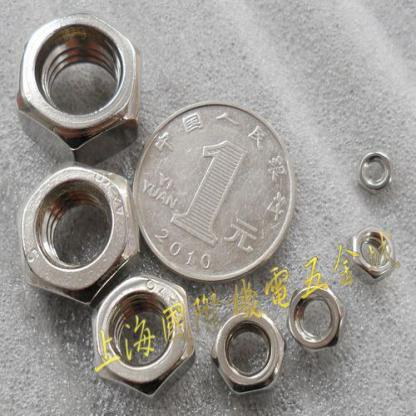FOD: (16, 12, 143, 165), (15, 163, 140, 311), (88, 270, 197, 400), (209, 307, 287, 401), (286, 280, 346, 359), (349, 226, 402, 286), (356, 146, 397, 194)
